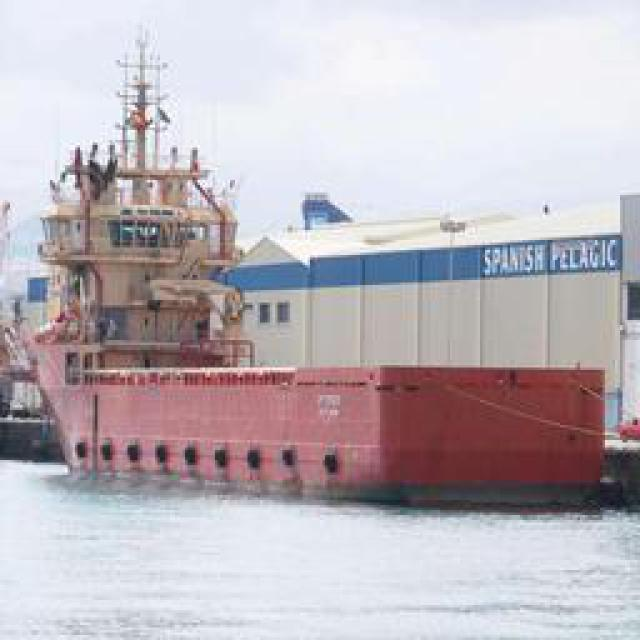Ship: (25, 92, 628, 510)
